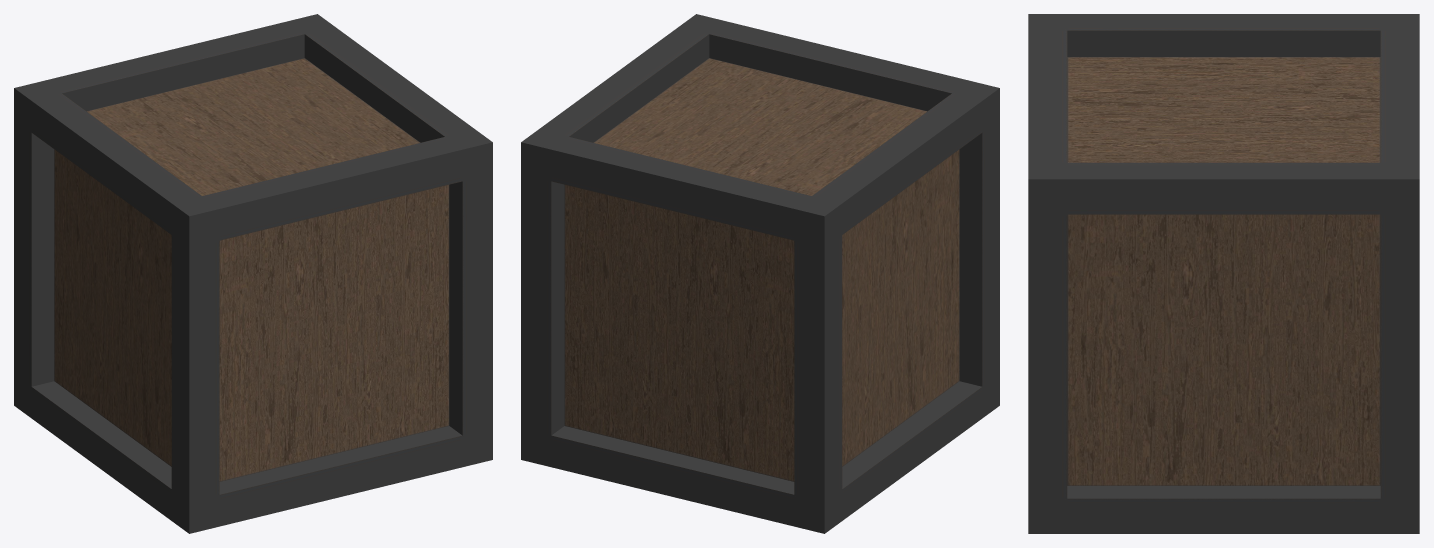
3 renders of one model, left to right at view 1: azimuth 30°, elevation 25°; view 2: azimuth 150°, elevation 25°; view 3: azimuth 270°, elevation 25°, orthographic. The views are drawn at different scales.
Size of the model in its own units: 2 by 2 by 2.
1 material, 1 textured.
